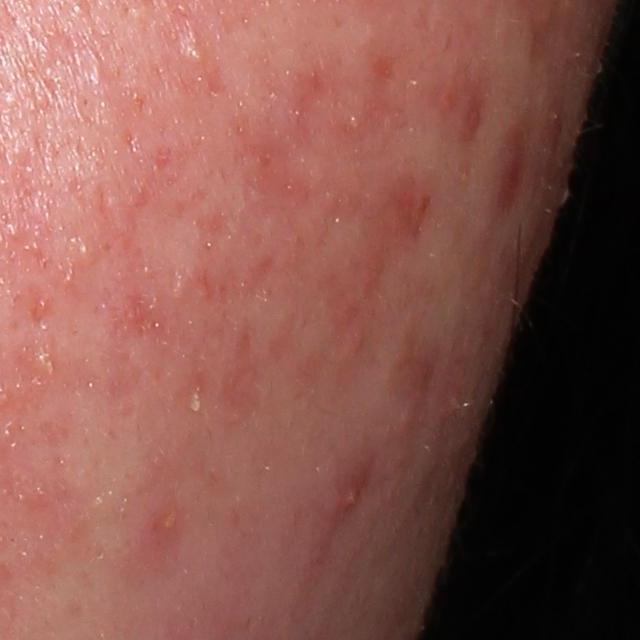comedo: (70, 238, 101, 273), (181, 43, 205, 71)
pustule: (28, 347, 63, 380)
